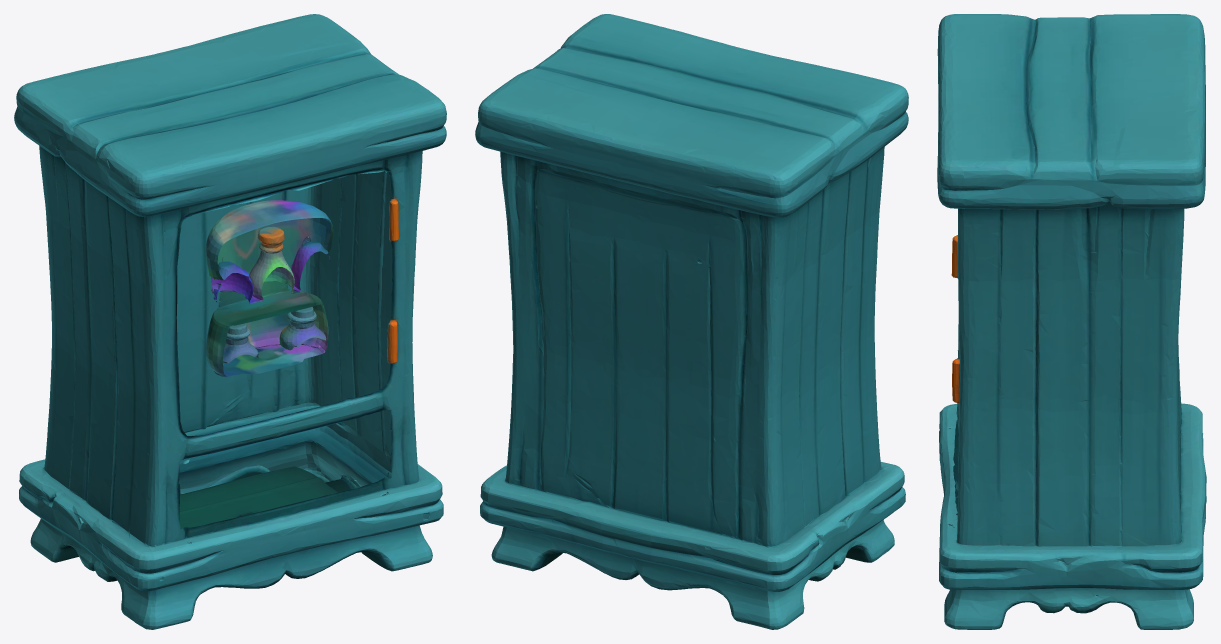
The model's file is body.glb.
3 views of the same model, side by side, from view 1: azimuth 30°, elevation 25°; view 2: azimuth 150°, elevation 25°; view 3: azimuth 270°, elevation 25° (orthographic). The views are drawn at different scales.
Visible parts, largest first — view 1: source_surface_0; view 2: source_surface_0; view 3: source_surface_0.
Part boxes in pixels (bbox=[...]): source_surface_0: bbox=[14, 14, 446, 629]; source_surface_0: bbox=[475, 14, 908, 629]; source_surface_0: bbox=[937, 14, 1206, 629].
Size of the model in its own units: 0.18 by 0.25 by 0.1296.
Materials: 1 (1 with a texture image).
